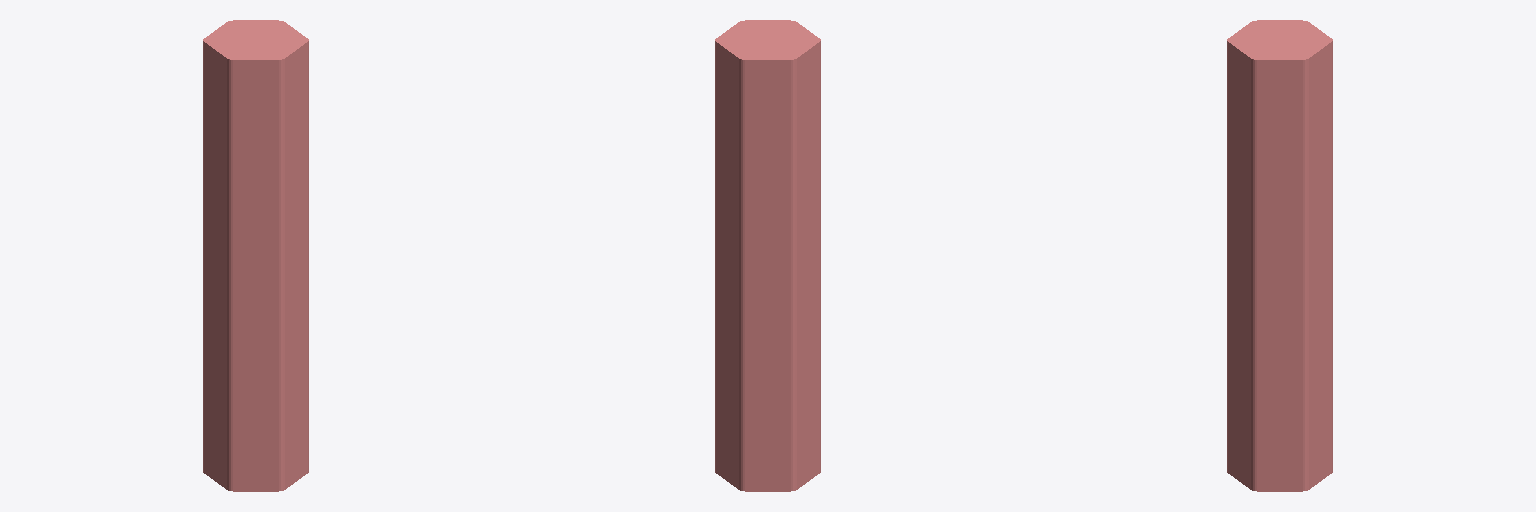
The robot description file, URDF, robot "Small_Long_Hexagon_JeansRed":
<?xml version="1.0"?>
<robot name="Small_Long_Hexagon_JeansRed">
    <link name="Small_Long_Hexagon_JeansRed">
        <visual>
            <geometry>
                <mesh filename="../mesh/factory_insertion/Small_Long_Hexagon_JeansRed.obj" scale="0.001 0.001 0.001"/>
            </geometry>
            <material name="JeansRed">
              <color rgba="0.91 0.6 0.6 0"/>
            </material>
        </visual>
        <collision>
            <geometry>
                <mesh filename="../mesh/factory_insertion/Small_Long_Hexagon_JeansRed.obj" scale="0.001 0.001 0.001"/>
            </geometry>
            <sdf resolution="512"/>
        </collision>
    </link>
</robot>

--- Facts derived from the render (not from the file) ---
Views: 3 orthographic renders of the robot side by side, from view 1: azimuth 30°, elevation 25°; view 2: azimuth 150°, elevation 25°; view 3: azimuth 270°, elevation 25°.
Model Small_Long_Hexagon_JeansRed with 1 links and 0 joints (none), rooted at Small_Long_Hexagon_JeansRed, posed every joint at zero.
Visible links, largest first — view 1: Small_Long_Hexagon_JeansRed; view 2: Small_Long_Hexagon_JeansRed; view 3: Small_Long_Hexagon_JeansRed.
Boxes of the visible links, x1,y1,x2,y2 form: Small_Long_Hexagon_JeansRed: (203,20,308,491); Small_Long_Hexagon_JeansRed: (715,20,820,491); Small_Long_Hexagon_JeansRed: (1227,20,1332,491).
Bounding box of the posed robot: 0.0294 × 0.0332 × 0.15 m (x, y, z).
Meshes: 1 distinct files referenced, 1 mesh visuals loaded (1 OBJ).
